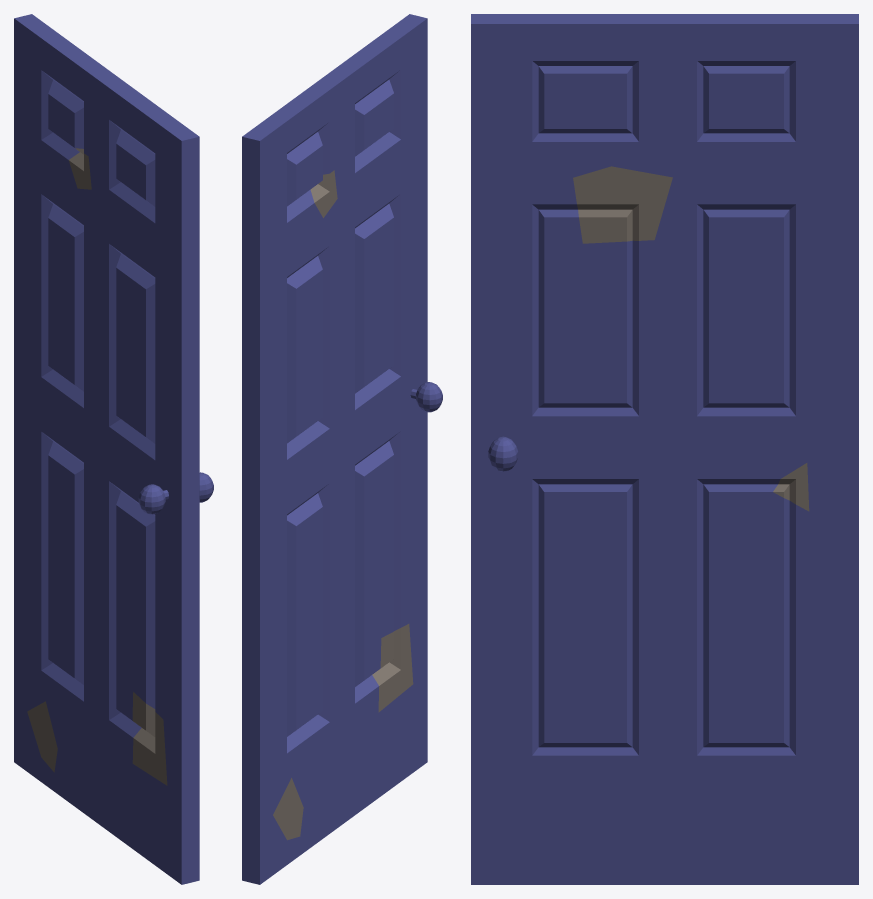
File: HallowDarkDoor.fbx
3 views of the same model, side by side, from view 1: azimuth 30°, elevation 25°; view 2: azimuth 150°, elevation 25°; view 3: azimuth 270°, elevation 25° (orthographic). The views are drawn at different scales.
Visible parts, largest first — view 1: Door; view 2: Door; view 3: Door.
Part boxes in pixels (box(x1,y1,x2,y2)): Door: box(14, 14, 213, 884); Door: box(242, 14, 442, 884); Door: box(471, 14, 858, 884).
Size of the model in its own units: 17.55 by 173 by 70.73.
